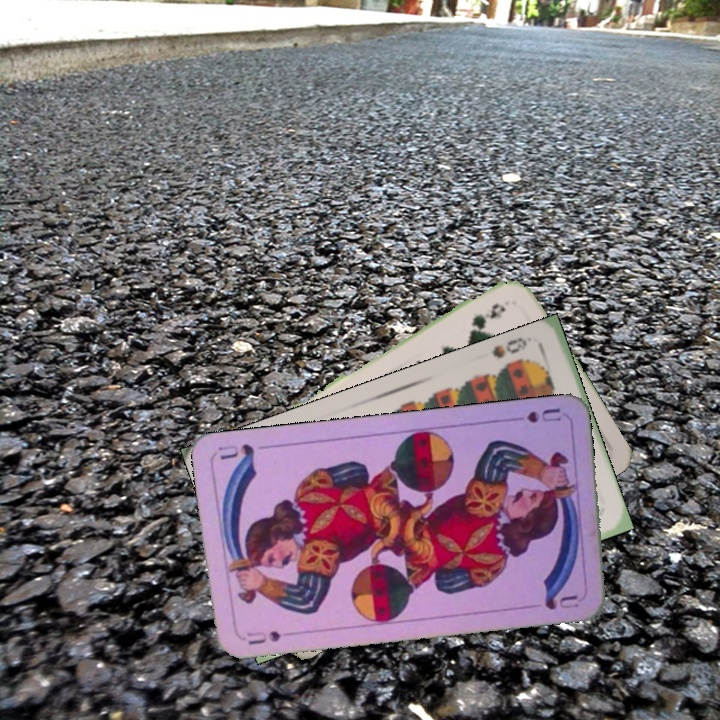G9: (465, 299, 509, 336)
S8: (488, 333, 530, 361)
SU: (504, 404, 564, 426), (243, 627, 284, 648)
